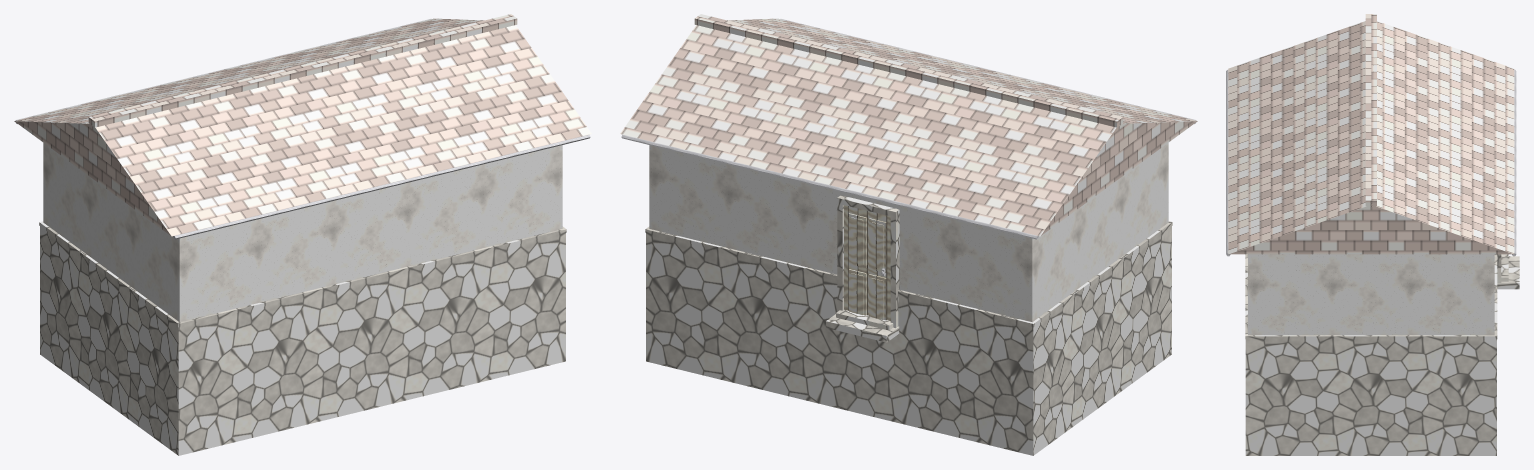
3 renders of one model, left to right at view 1: azimuth 30°, elevation 25°; view 2: azimuth 150°, elevation 25°; view 3: azimuth 270°, elevation 25°, orthographic. The views are drawn at different scales.
Visible parts, largest first — view 1: b1085383209; view 2: b1085383209; view 3: b1085383209.
Boxes of the visible parts, bbox=[...] form: b1085383209: bbox=[14, 14, 591, 455]; b1085383209: bbox=[620, 14, 1197, 455]; b1085383209: bbox=[1226, 14, 1519, 455].
Size of the model in its own units: 7.92 by 5.2 by 5.26.
Materials: 11 (11 with a texture image).
